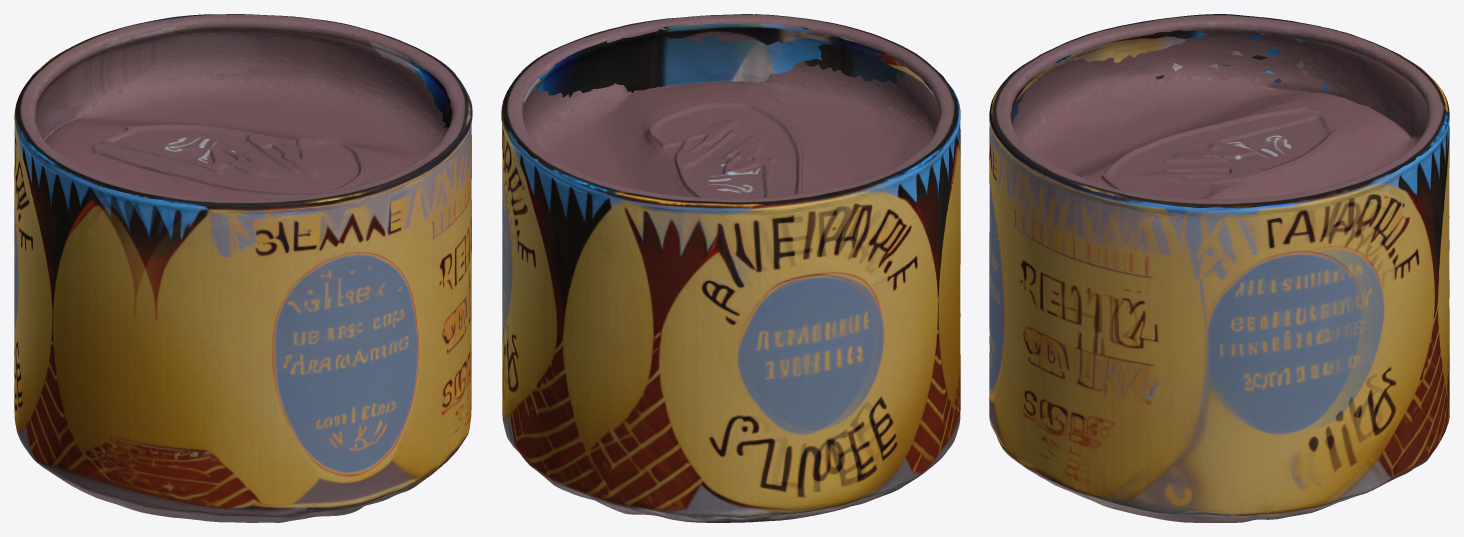
The model's file is image_0004_segmented.glb.
3 views of the same model, side by side, from view 1: azimuth 30°, elevation 25°; view 2: azimuth 150°, elevation 25°; view 3: azimuth 270°, elevation 25° (orthographic).
Visible parts, largest first — view 1: tmp92789soc.ply; view 2: tmp92789soc.ply; view 3: tmp92789soc.ply.
Boxes of the visible parts, x1,y1,x2,y2 form: tmp92789soc.ply: (14, 14, 472, 522); tmp92789soc.ply: (501, 14, 960, 522); tmp92789soc.ply: (989, 14, 1449, 522).
Bounding box in the file's own units: 1.99 × 1.59 × 1.99.
1 material, 1 textured.
